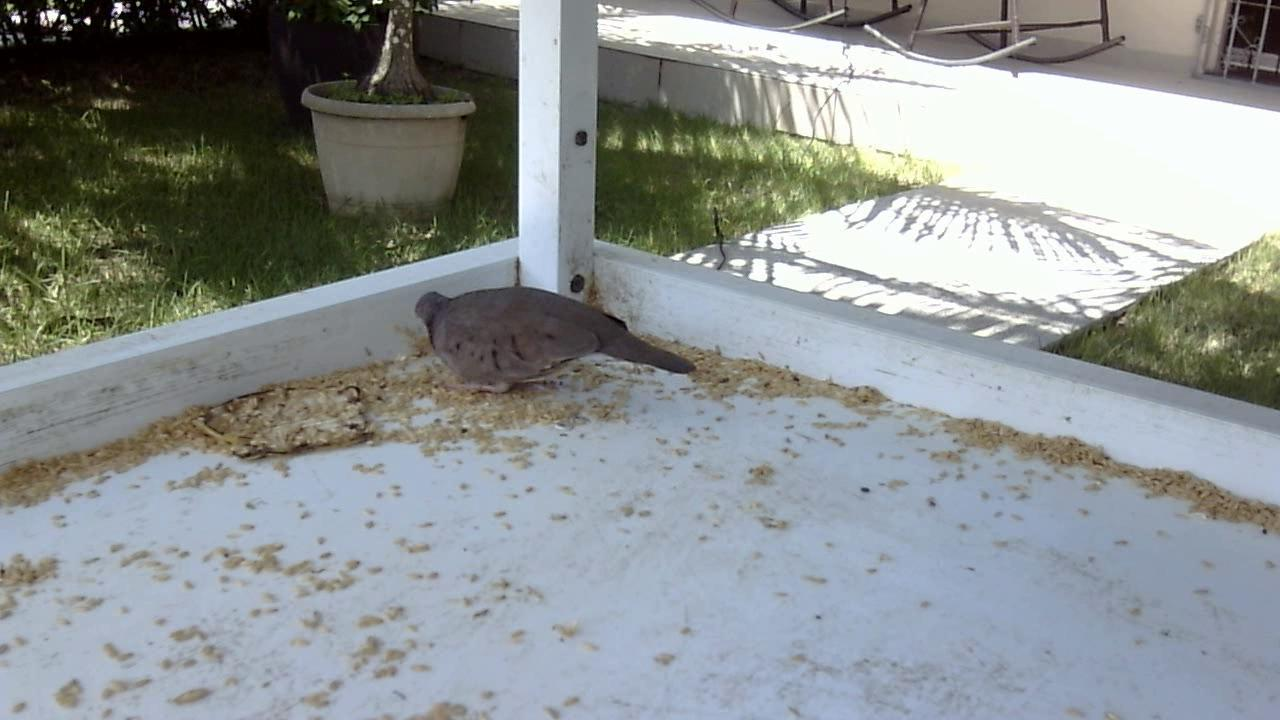rolinha: (408, 274, 692, 411)
